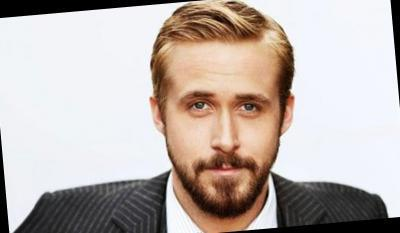Sober: (165, 43, 275, 188)
